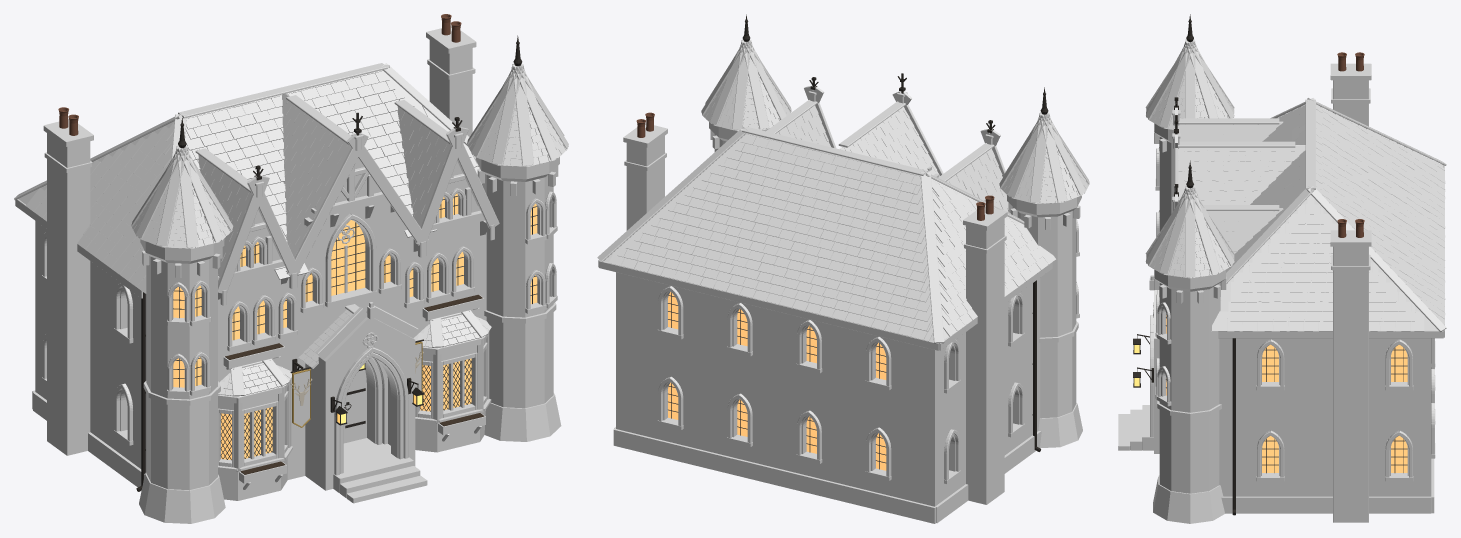
The model's file is SilverbrookNorthridgeHouse2.glb.
The picture shows the model from 3 angles, left to right: view 1: azimuth 30°, elevation 25°; view 2: azimuth 150°, elevation 25°; view 3: azimuth 270°, elevation 25°; orthographic projection. The views are drawn at different scales.
Visible parts, largest first — view 1: SM_SBNorthridgeHouse2_Masonry, SM_SBNorthridgeHouse2_Roof, SM_SBNorthridgeHouse2_Trim, SM_SBNorthridgeHouse2_Timber, SM_SBNorthridgeHouse2_Details, SM_SBNorthridgeHouse2_Plaster, SM_SBNorthridgeHouse2_Door2; view 2: SM_SBNorthridgeHouse2_Masonry, SM_SBNorthridgeHouse2_Roof, SM_SBNorthridgeHouse2_Trim, SM_SBNorthridgeHouse2_Timber, SM_SBNorthridgeHouse2_Details; view 3: SM_SBNorthridgeHouse2_Roof, SM_SBNorthridgeHouse2_Masonry, SM_SBNorthridgeHouse2_Trim, SM_SBNorthridgeHouse2_Details, SM_SBNorthridgeHouse2_Timber.
Boxes of the visible parts, <box> form: SM_SBNorthridgeHouse2_Masonry: <box>32,26,559,503</box>; SM_SBNorthridgeHouse2_Roof: <box>14,63,568,397</box>; SM_SBNorthridgeHouse2_Trim: <box>42,166,561,523</box>; SM_SBNorthridgeHouse2_Timber: <box>15,127,499,489</box>; SM_SBNorthridgeHouse2_Details: <box>58,14,537,491</box>; SM_SBNorthridgeHouse2_Plaster: <box>245,158,480,267</box>; SM_SBNorthridgeHouse2_Door2: <box>343,369,366,443</box>; SM_SBNorthridgeHouse2_Masonry: <box>613,122,1081,523</box>; SM_SBNorthridgeHouse2_Roof: <box>597,39,1089,343</box>; SM_SBNorthridgeHouse2_Trim: <box>657,130,1082,484</box>; SM_SBNorthridgeHouse2_Timber: <box>598,86,1052,350</box>; SM_SBNorthridgeHouse2_Details: <box>636,14,1048,470</box>; SM_SBNorthridgeHouse2_Roof: <box>1145,39,1446,331</box>; SM_SBNorthridgeHouse2_Masonry: <box>1118,63,1434,522</box>; SM_SBNorthridgeHouse2_Trim: <box>1149,131,1435,523</box>; SM_SBNorthridgeHouse2_Details: <box>1133,14,1407,515</box>; SM_SBNorthridgeHouse2_Timber: <box>1172,107,1444,338</box>.
Size of the model in its own units: 10.86 by 9.53 by 8.17.
